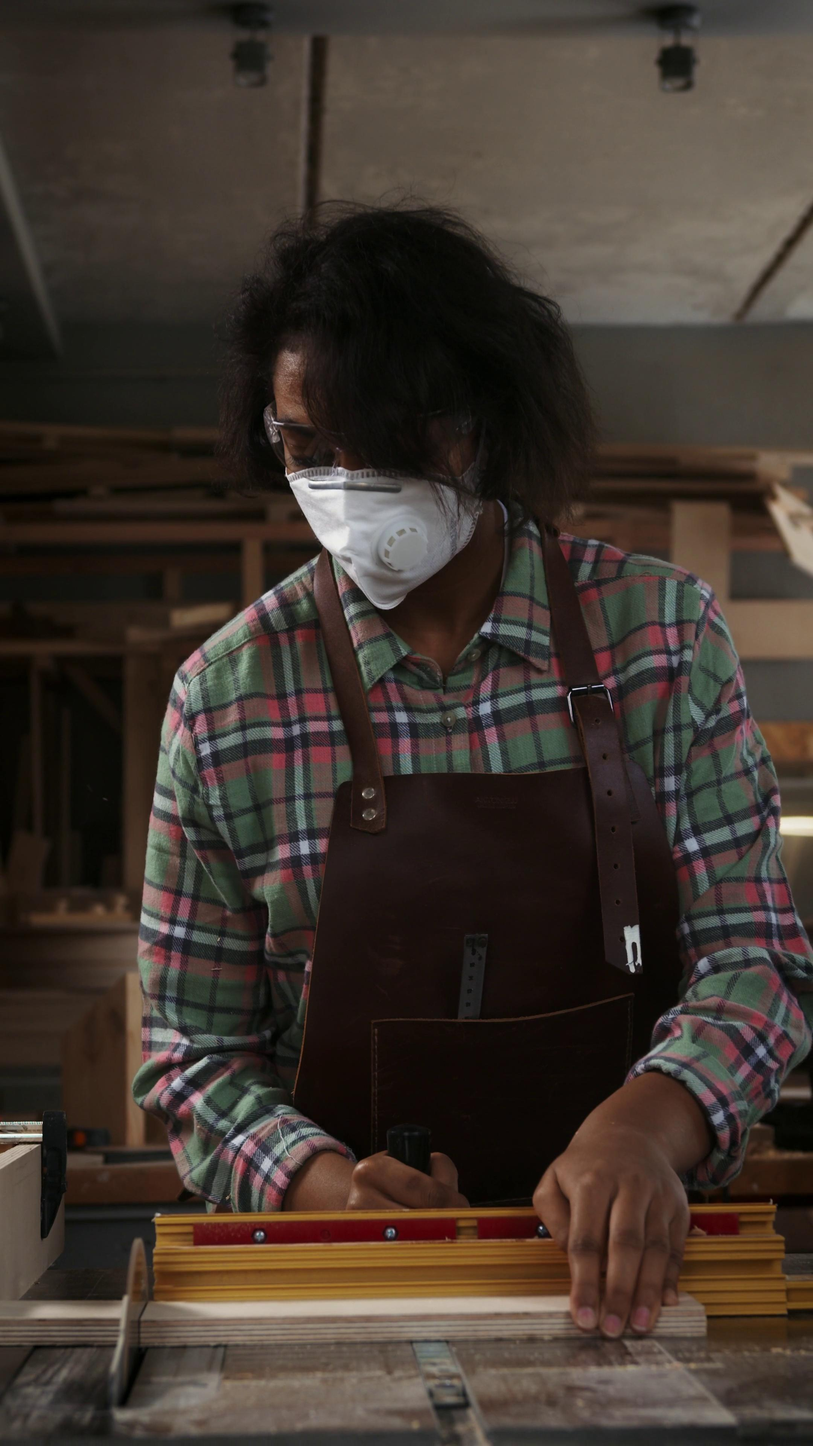mask: (285, 466, 483, 611)
person: (131, 206, 813, 1336)
